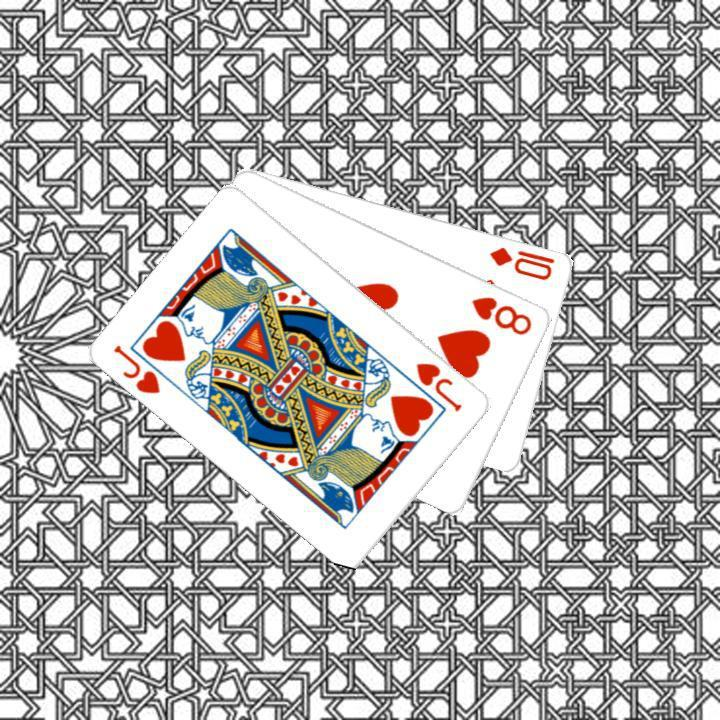10: (486, 242, 557, 282)
8: (467, 292, 535, 337)
J: (109, 340, 163, 396), (412, 358, 465, 414)
